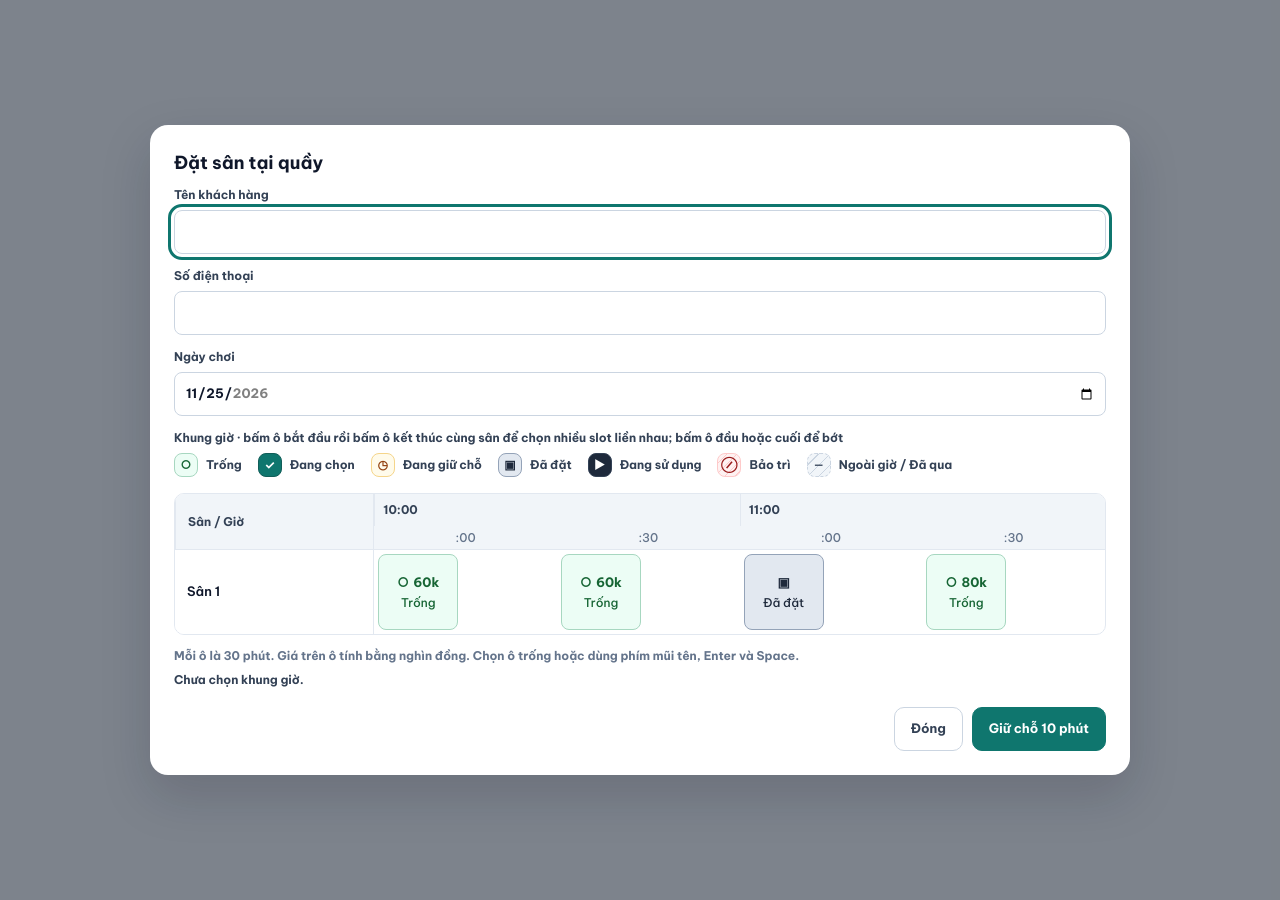
Test: chọn khung giờ › giữa hai ô có ô đã đặt thì không nối được, chọn lại từ ô vừa bấm
The width and height of the screenshot is (1280, 900).
Expected: the table named "Lịch sân theo khung 30 phút" is shown, [175,494,1105,634]
Click the 1st button "○ 60k Trống": (418, 592) [378,554,458,630]
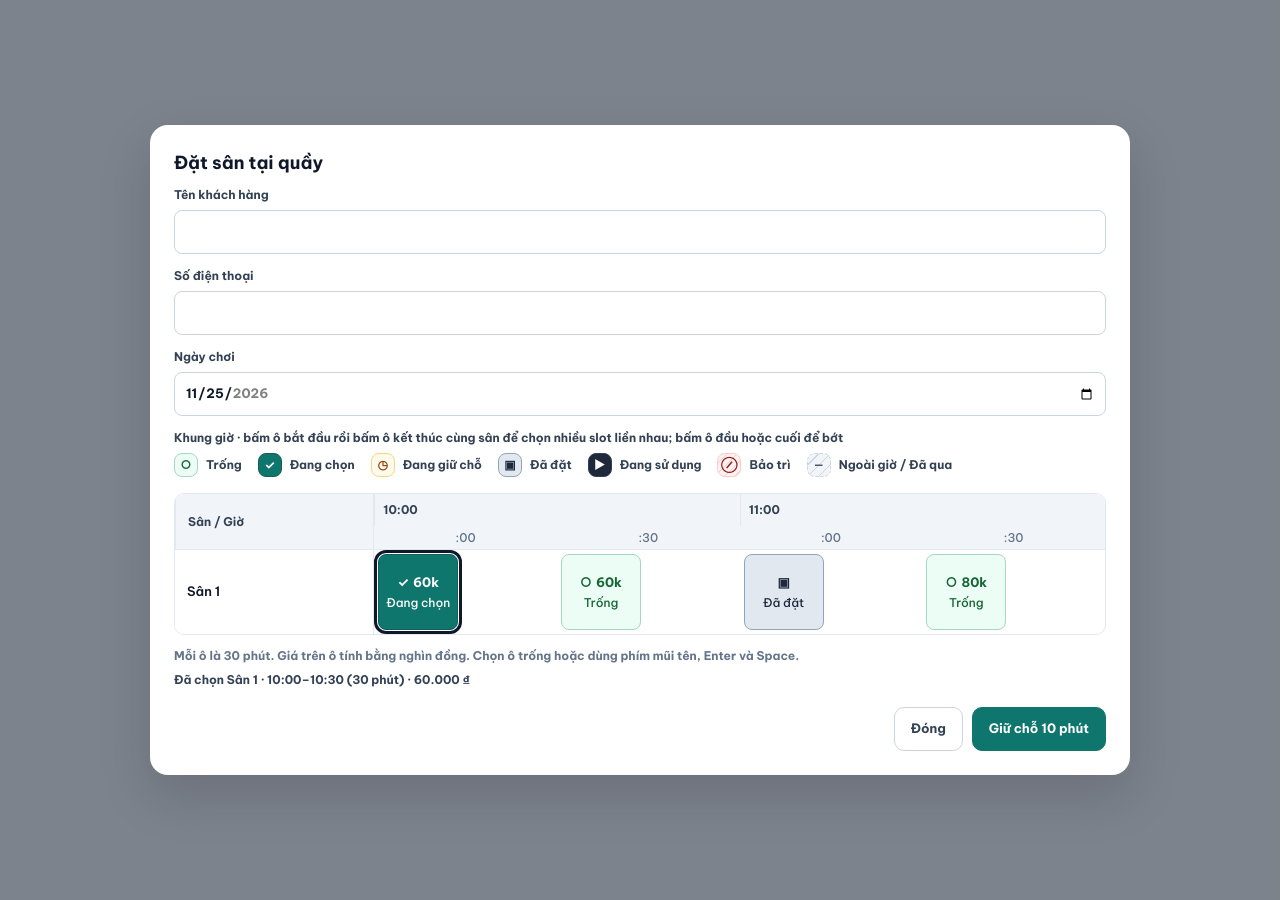
Click the button "○ 80k Trống": (966, 592) [926,554,1006,630]
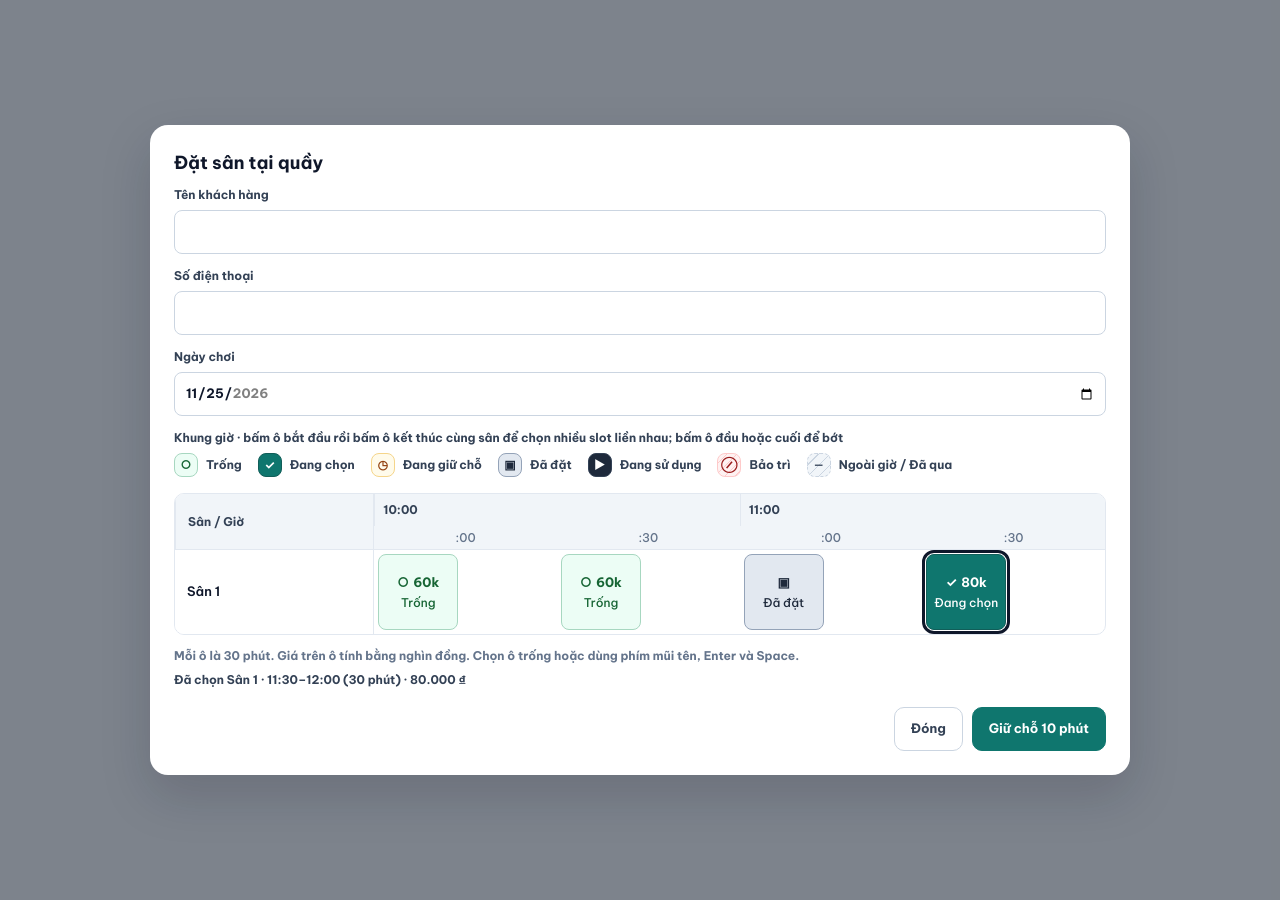
Expected: the text "Đã chọn Sân 1 · 11:30–12:00 (30 phút) · 80.000 ₫" is shown, [174,672,466,687]
